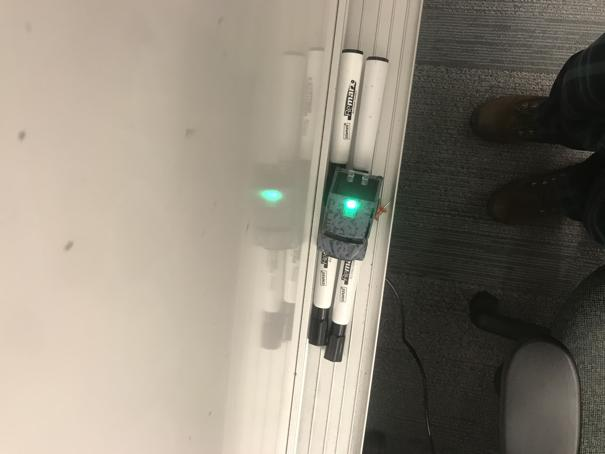MXT: (316, 166, 383, 261)
